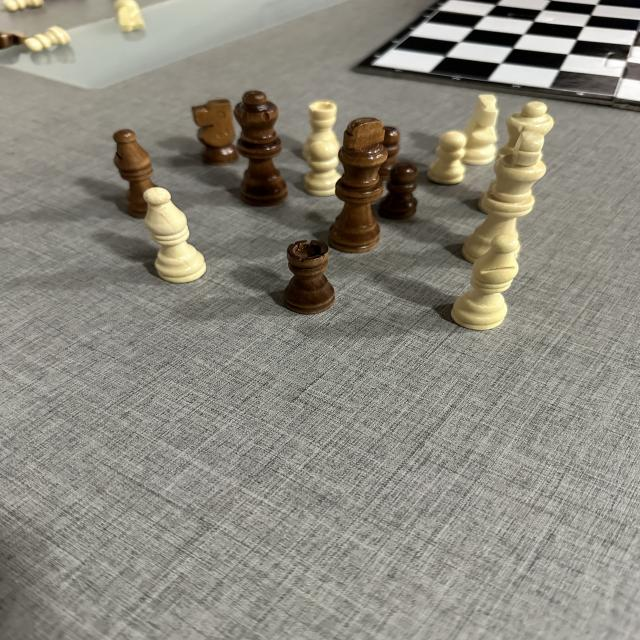Black-Bishop: (113, 128, 162, 218)
Black-King: (328, 117, 384, 252)
Black-Knight: (191, 99, 238, 164)
Black-Pawn: (379, 162, 418, 218), (374, 127, 399, 180)
Black-Queen: (236, 90, 286, 206)
Black-Rook: (287, 240, 333, 315)
White-Bishop: (450, 234, 519, 330), (142, 187, 207, 283)
White-King: (462, 132, 544, 263)
White-Knight: (458, 94, 498, 165), (113, 4, 145, 32)
White-Pawn: (302, 142, 340, 196), (428, 132, 464, 185), (25, 26, 70, 52)
White-Queen: (506, 102, 552, 136)
White-Rook: (306, 102, 338, 157)
